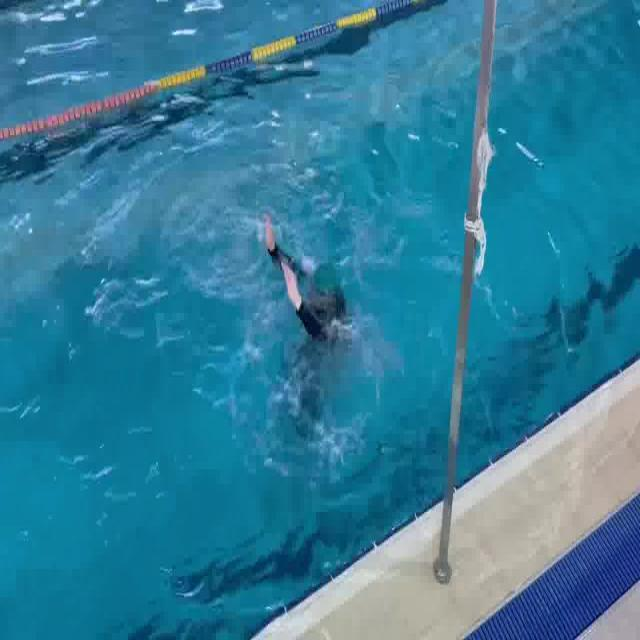Drowning: (249, 197, 381, 393)
